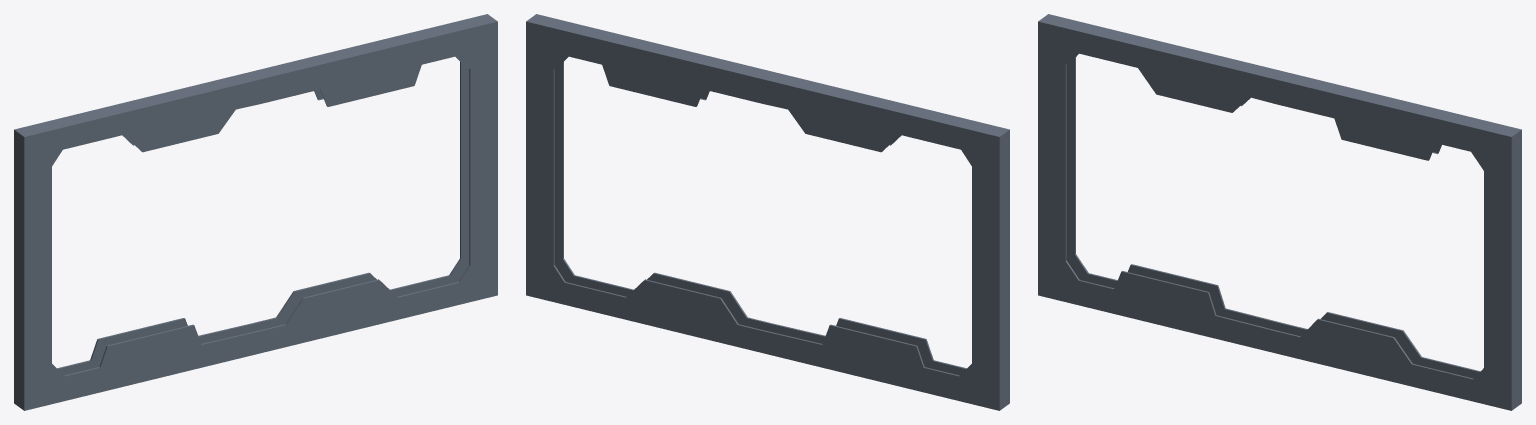
Rendered from mur_vitre_contour.fbx.
3 renders of one model, left to right at view 1: azimuth 30°, elevation 25°; view 2: azimuth 150°, elevation 25°; view 3: azimuth 330°, elevation 25°, orthographic.
Parts seen in each view (by area): view 1: mur_contour; view 2: mur_contour; view 3: mur_contour.
Boxes of the visible parts, x1,y1,x2,y2 form: mur_contour: (14, 14, 497, 410); mur_contour: (526, 14, 1009, 410); mur_contour: (1038, 14, 1521, 410).
Bounding box in the file's own units: 0.5608 × 0.31 × 0.0211.
